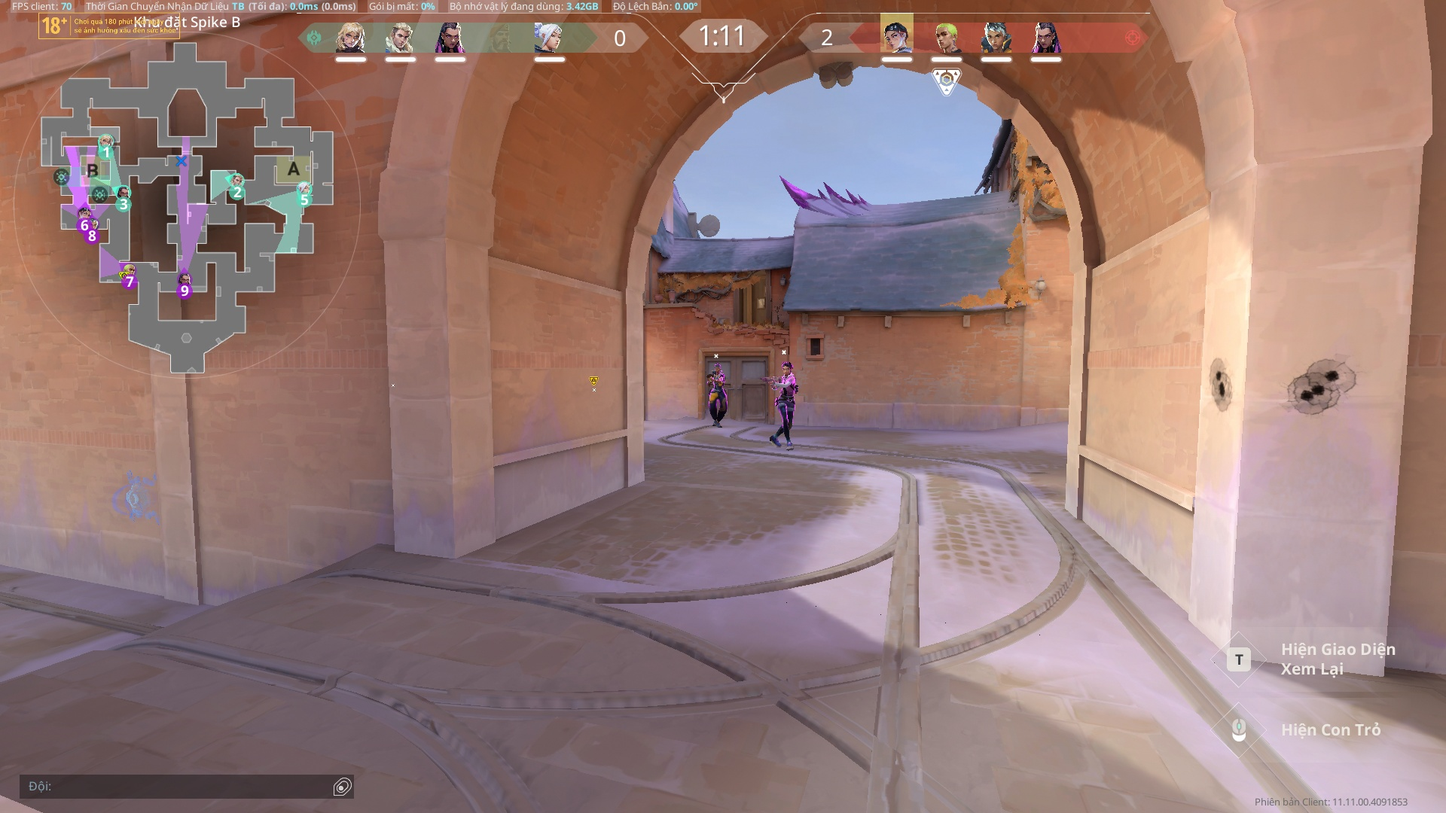body: (778, 375, 798, 399), (710, 371, 725, 389)
head: (782, 362, 794, 378), (714, 364, 722, 373)
